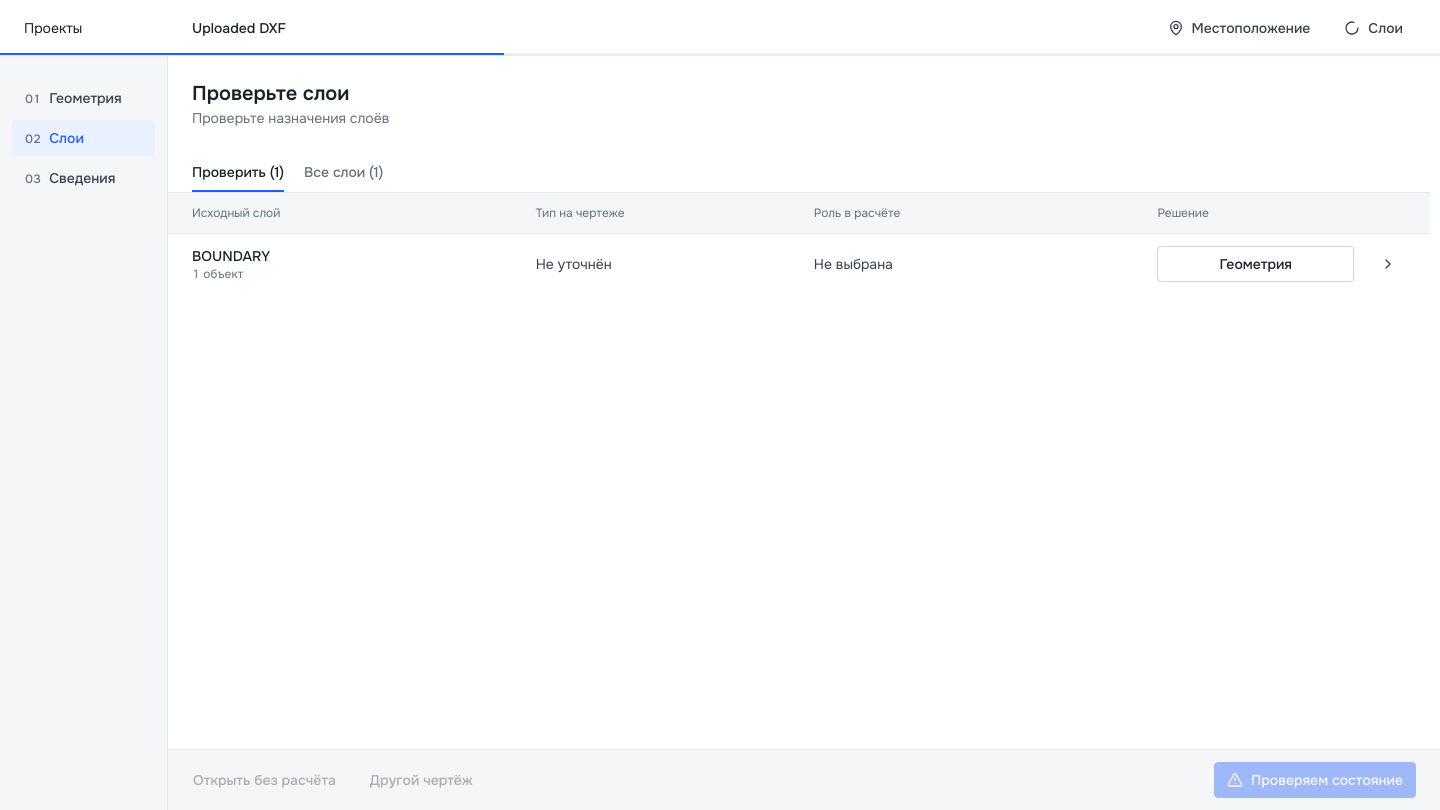
Test case: keeps recognition in the header while reviewing geometry and opens its detailed progress
The width and height of the screenshot is (1440, 810).
Click the button "01Геометрия": (84, 98) [12,80,155,116]
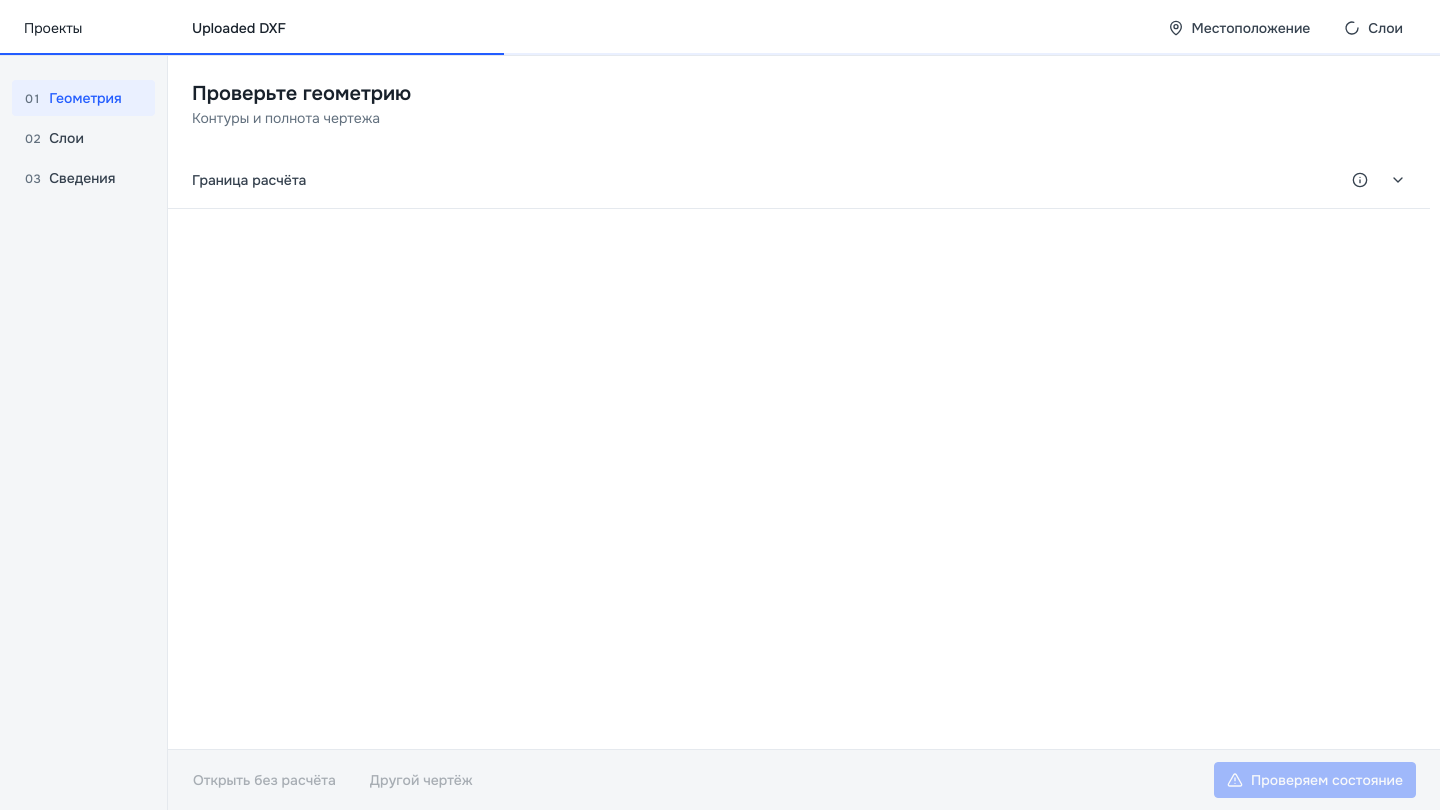
Expected: the element named "Геометрия" is shown, [168,152,1430,209]
Expected: the progress indicator named "Распознавание слоёв" is shown, [0,53,1439,55]
Click the button with aria-label "Слои: распознавание": (1374, 28) [1331,10,1416,46]
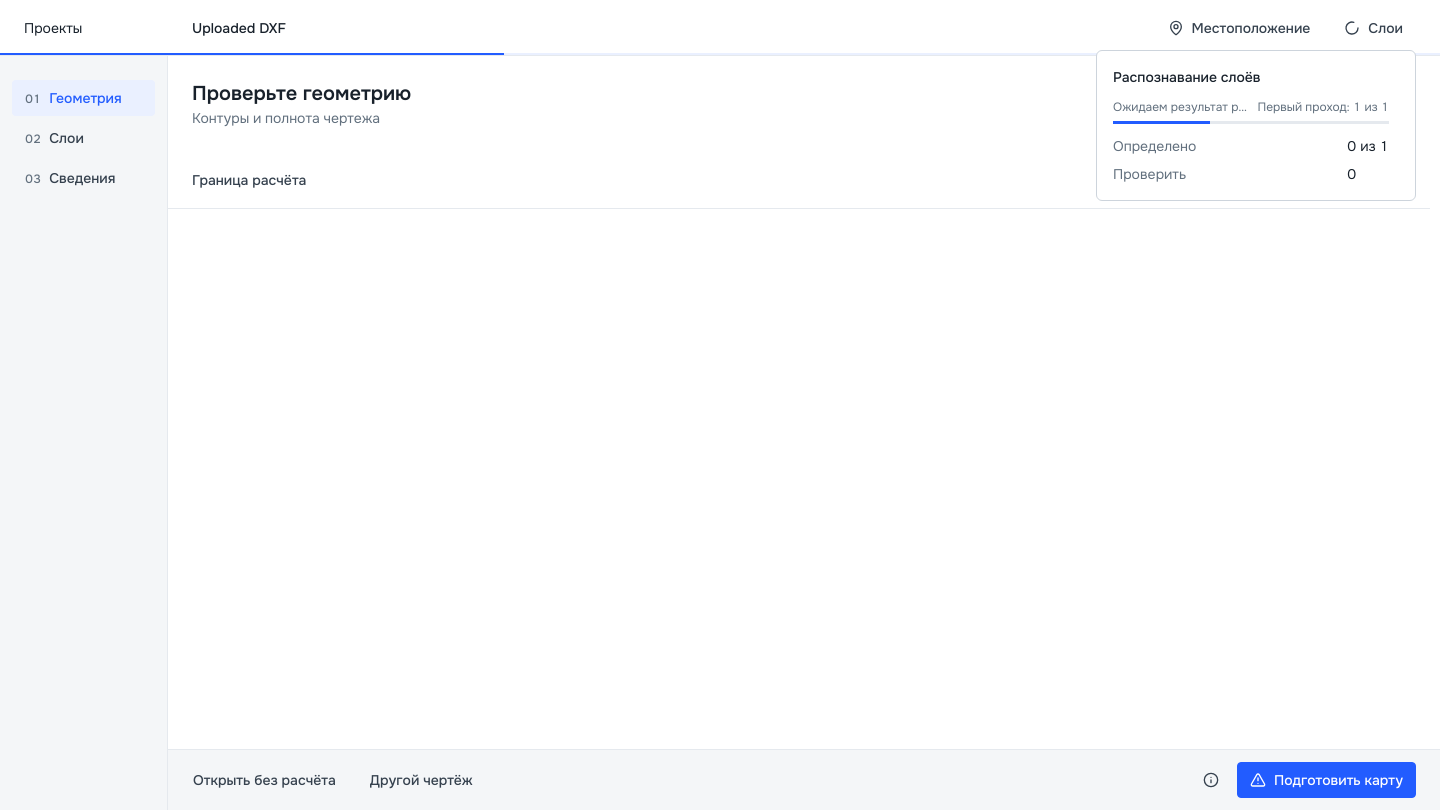
Expected: the progress indicator named "Распознавание слоёв" is shown, [0,53,1439,55]
Now the text "Ожидаем результат распознавания" is shown, box [1113,99,1249,115]
